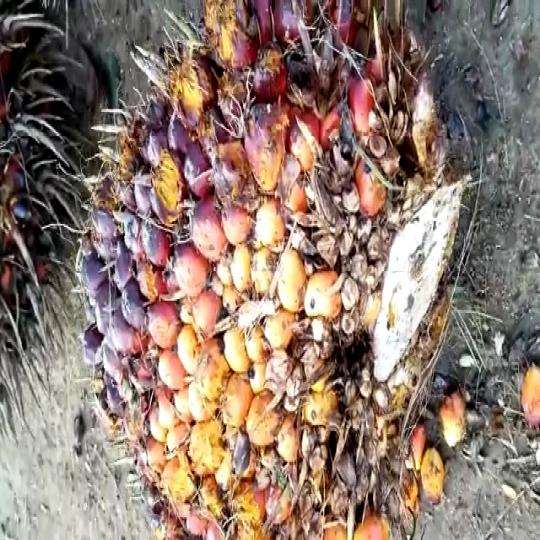masak: (77, 14, 480, 540)
